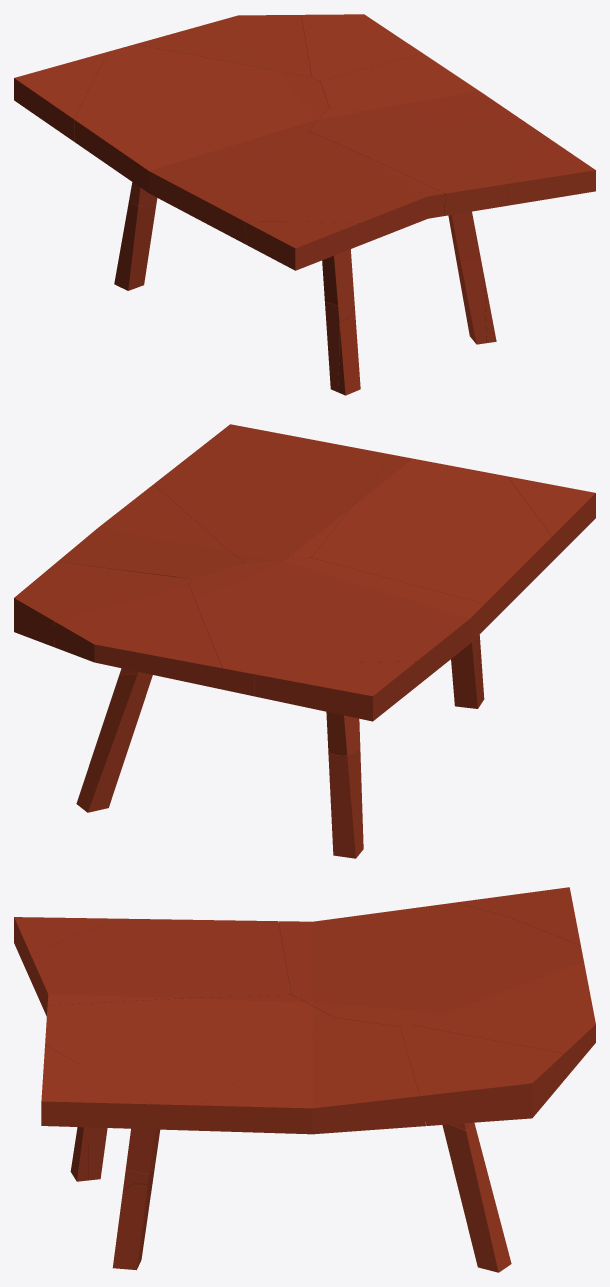
Rendered from Table_fracture.fbx.
The picture shows the model from 3 angles, top to bottom: view 1: azimuth 30°, elevation 25°; view 2: azimuth 150°, elevation 25°; view 3: azimuth 270°, elevation 25°; orthographic projection. The views are drawn at different scales.
Visible parts, largest first — view 1: Table.fracture_cell.011, Table.fracture_cell.001, Table.fracture_cell.007, Table.fracture_cell.012, Table.fracture_cell.005, Table.fracture_cell, Table.fracture_cell.013, Table.fracture_cell.004, Table.fracture_cell.009, Table.fracture_cell.014, Table.fracture_cell.008, Table.fracture_cell.010 (+1 smaller); view 2: Table.fracture_cell.011, Table.fracture_cell.001, Table.fracture_cell.007, Table.fracture_cell.005, Table.fracture_cell.012, Table.fracture_cell, Table.fracture_cell.013, Table.fracture_cell.003, Table.fracture_cell.004, Table.fracture_cell.014, Table.fracture_cell.009, Table.fracture_cell.006; view 3: Table.fracture_cell.011, Table.fracture_cell.007, Table.fracture_cell.001, Table.fracture_cell.012, Table.fracture_cell, Table.fracture_cell.005, Table.fracture_cell.009, Table.fracture_cell.003, Table.fracture_cell.013, Table.fracture_cell.004, Table.fracture_cell.002, Table.fracture_cell.006 (+2 smaller).
Part boxes in pixels (box(x1,y1,x2,y2)): Table.fracture_cell.011: box(74, 44, 329, 206); Table.fracture_cell.001: box(166, 131, 445, 305); Table.fracture_cell.007: box(309, 107, 547, 262); Table.fracture_cell.012: box(320, 53, 527, 123); Table.fracture_cell.005: box(135, 15, 311, 77); Table.fracture_cell: box(301, 14, 422, 81); Table.fracture_cell.013: box(14, 51, 109, 141); Table.fracture_cell.004: box(244, 221, 359, 270); Table.fracture_cell.009: box(507, 138, 595, 205); Table.fracture_cell.014: box(114, 198, 156, 290); Table.fracture_cell.008: box(455, 256, 486, 344); Table.fracture_cell.010: box(338, 306, 360, 395); Table.fracture_cell.011: box(188, 558, 484, 755); Table.fracture_cell.001: box(311, 455, 554, 628); Table.fracture_cell.007: box(154, 442, 393, 562); Table.fracture_cell.005: box(54, 584, 222, 688); Table.fracture_cell.012: box(57, 484, 244, 579); Table.fracture_cell: box(14, 562, 191, 674); Table.fracture_cell.013: box(254, 661, 416, 721); Table.fracture_cell.003: box(76, 672, 152, 812); Table.fracture_cell.004: box(507, 476, 595, 559); Table.fracture_cell.014: box(328, 748, 363, 858); Table.fracture_cell.009: box(177, 424, 325, 466); Table.fracture_cell.006: box(451, 635, 480, 708); Table.fracture_cell.011: box(278, 902, 583, 1027); Table.fracture_cell.007: box(45, 995, 334, 1174); Table.fracture_cell.001: box(29, 918, 291, 1016); Table.fracture_cell.012: box(197, 1018, 425, 1134); Table.fracture_cell: box(400, 1025, 564, 1130); Table.fracture_cell.005: box(414, 961, 595, 1079); Table.fracture_cell.009: box(41, 1045, 151, 1129); Table.fracture_cell.003: box(442, 1122, 511, 1272); Table.fracture_cell.013: box(455, 887, 580, 945); Table.fracture_cell.004: box(14, 917, 117, 977); Table.fracture_cell.002: box(112, 1184, 147, 1270); Table.fracture_cell.006: box(88, 1127, 107, 1180).
Size of the model in its own units: 351 by 179 by 430.
